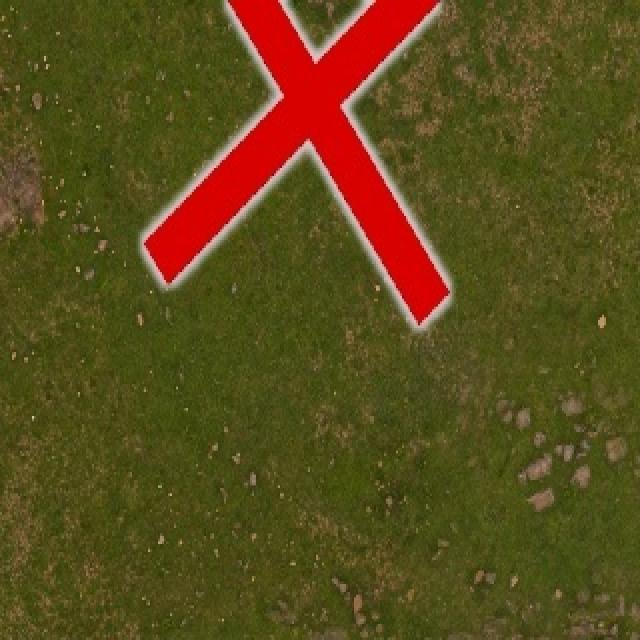x_marker: (143, 0, 447, 323)
